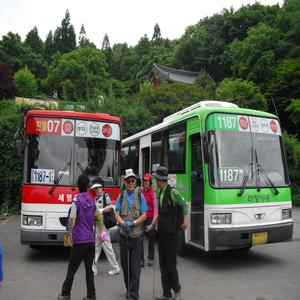07bus: (21, 108, 123, 248)
